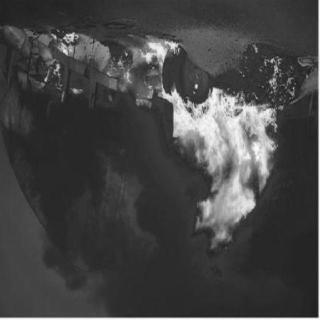Fire: (35, 28, 287, 280)
